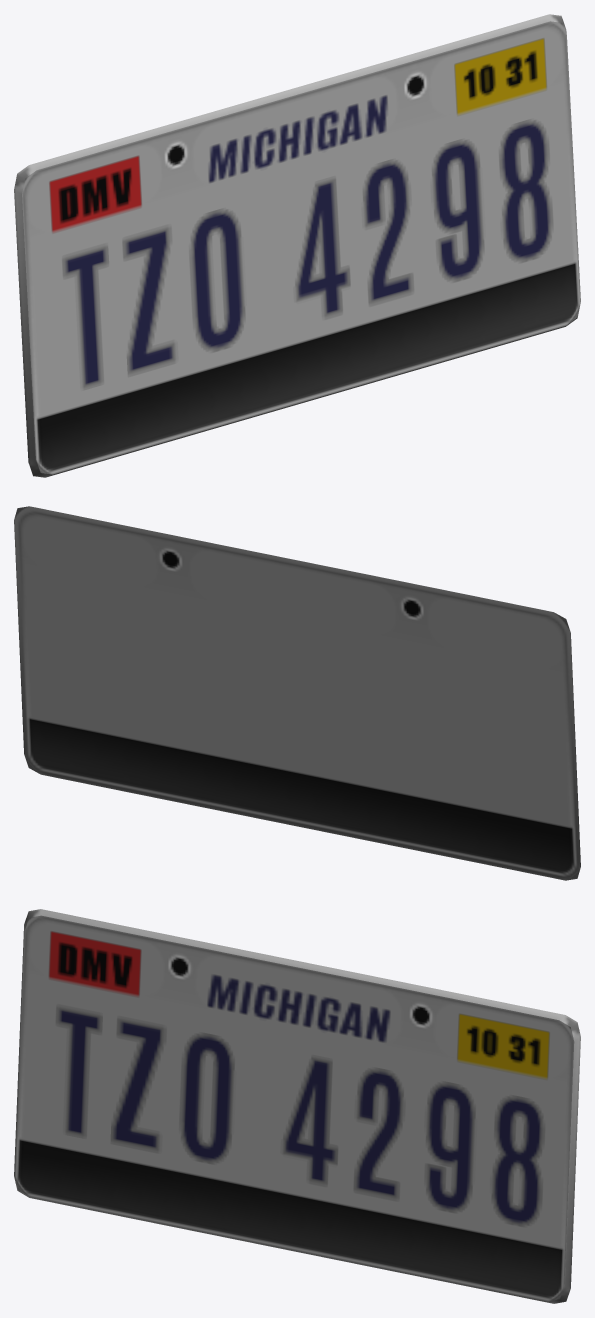
Rendered from tozzo98_numberplate_rear_numberplates_misk_u_0_lev3.glb.
3 views of the same model, one above another, from view 1: azimuth 30°, elevation 25°; view 2: azimuth 150°, elevation 25°; view 3: azimuth 330°, elevation 25° (orthographic). The views are drawn at different scales.
Visible parts, largest first — view 1: tozzo98_numberplate_rear_numberplates_misk_u_0_lev3; view 2: tozzo98_numberplate_rear_numberplates_misk_u_0_lev3; view 3: tozzo98_numberplate_rear_numberplates_misk_u_0_lev3.
Part boxes in pixels (<box>): tozzo98_numberplate_rear_numberplates_misk_u_0_lev3: <box>14,14,580,477</box>; tozzo98_numberplate_rear_numberplates_misk_u_0_lev3: <box>14,506,580,880</box>; tozzo98_numberplate_rear_numberplates_misk_u_0_lev3: <box>14,909,580,1303</box>.
Size of the model in its own units: 0.3 by 0.1494 by 0.0385.
Materials: 1 (1 with a texture image).
